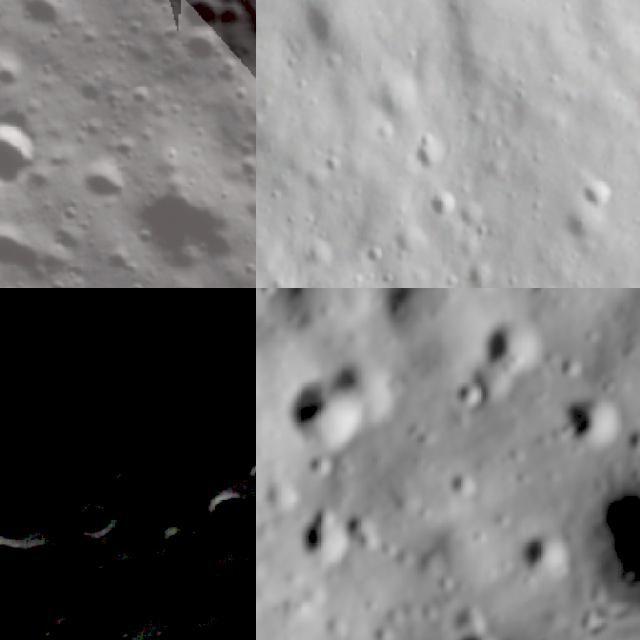crater: (111, 136, 256, 288), (258, 362, 382, 484), (0, 495, 102, 640), (317, 343, 420, 443), (340, 288, 487, 354), (458, 299, 558, 396), (566, 467, 640, 585), (278, 497, 368, 586), (544, 385, 630, 469), (494, 518, 578, 598), (0, 111, 53, 224), (168, 0, 256, 54), (6, 0, 92, 53), (68, 150, 135, 217), (330, 502, 396, 568), (60, 488, 125, 552), (194, 477, 256, 538), (430, 454, 485, 512), (440, 370, 494, 424), (11, 420, 65, 470), (105, 552, 154, 604), (582, 171, 622, 223), (421, 183, 462, 231), (551, 208, 592, 255), (408, 131, 448, 175), (432, 616, 505, 640), (156, 523, 194, 559), (0, 439, 29, 484), (243, 502, 256, 582), (235, 449, 256, 498)
